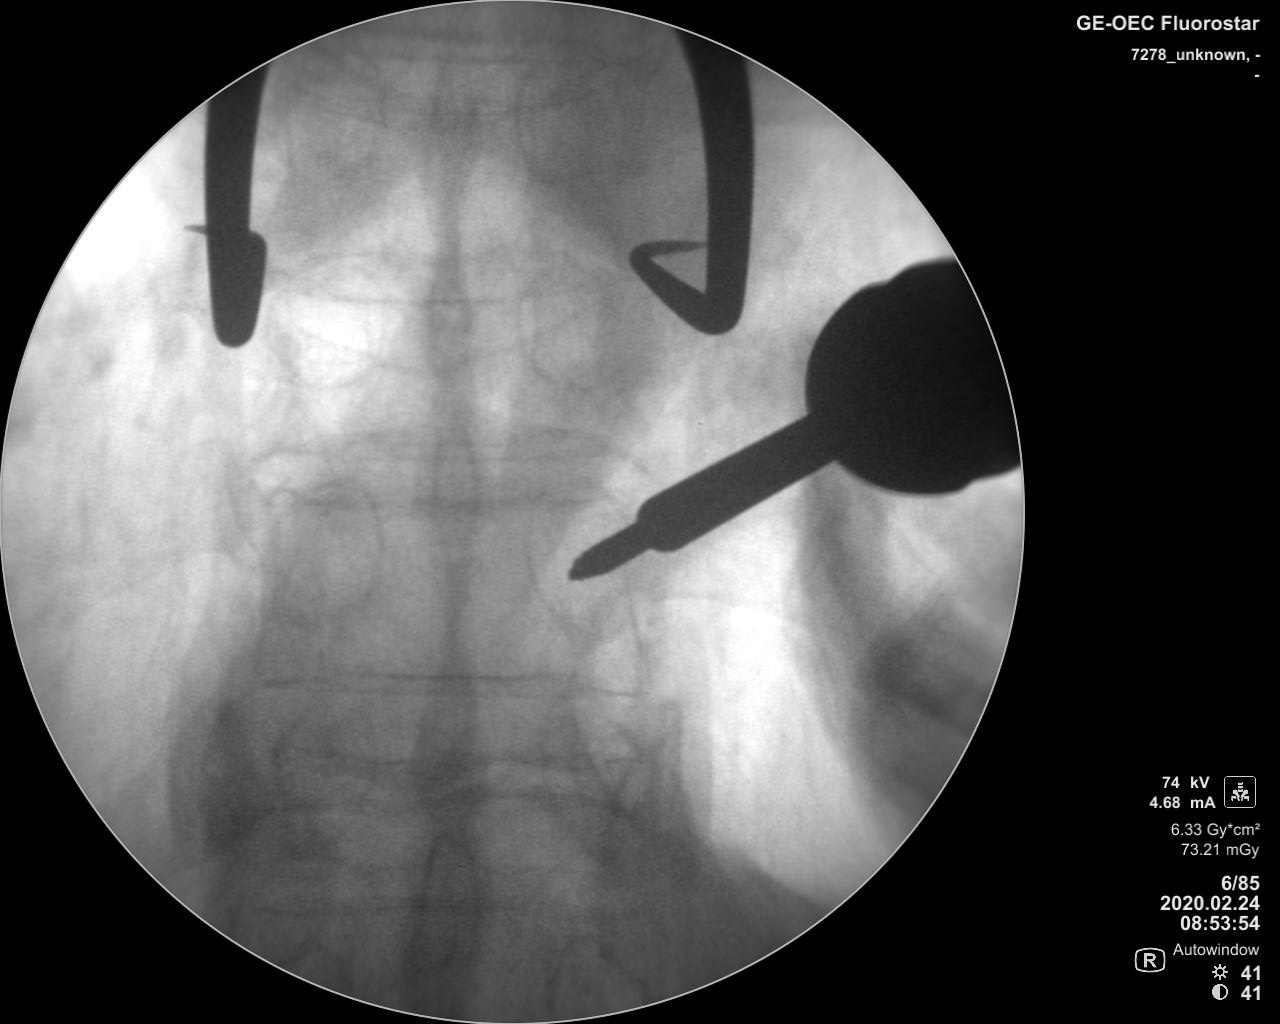eyes: (518, 491, 632, 645), (284, 480, 387, 624), (510, 262, 618, 399), (510, 59, 618, 188)
line: (265, 243, 619, 310), (235, 665, 648, 704), (255, 425, 639, 467), (254, 482, 621, 515)
nose: (408, 624, 484, 806), (417, 413, 484, 599), (415, 236, 480, 391), (418, 74, 484, 225), (411, 833, 481, 974)
